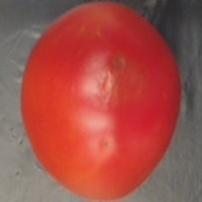unripe: (16, 1, 189, 202)
